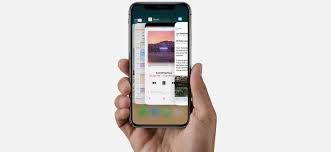iphone: (127, 1, 193, 127)
iphone10: (128, 2, 194, 129)
